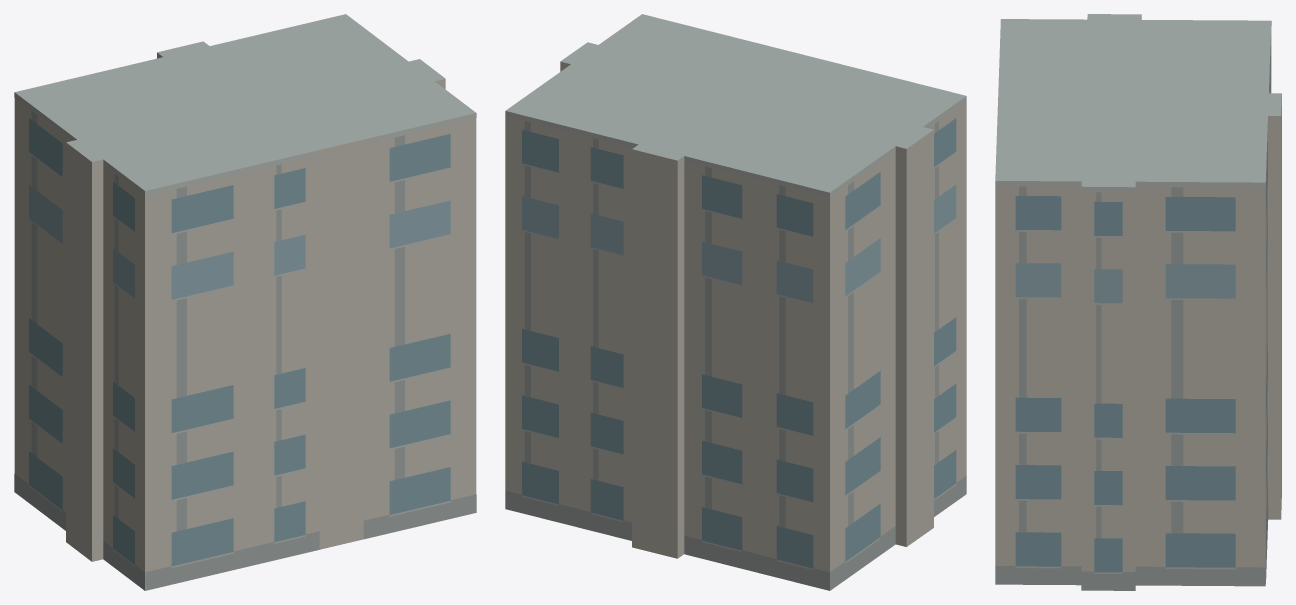
Rendered from survey-upis-32566298.glb.
The picture shows the model from 3 angles, left to right: view 1: azimuth 30°, elevation 25°; view 2: azimuth 150°, elevation 25°; view 3: azimuth 270°, elevation 25°; orthographic projection.
Parts seen in each view (by area): view 1: survey-upis-32566298.tmp; view 2: survey-upis-32566298.tmp; view 3: survey-upis-32566298.tmp.
Part boxes in pixels (bbox=[...]): survey-upis-32566298.tmp: bbox=[14, 14, 476, 590]; survey-upis-32566298.tmp: bbox=[505, 14, 966, 590]; survey-upis-32566298.tmp: bbox=[995, 14, 1281, 590].
Bounding box in the file's own units: 16.85 × 18.3 × 11.78.
